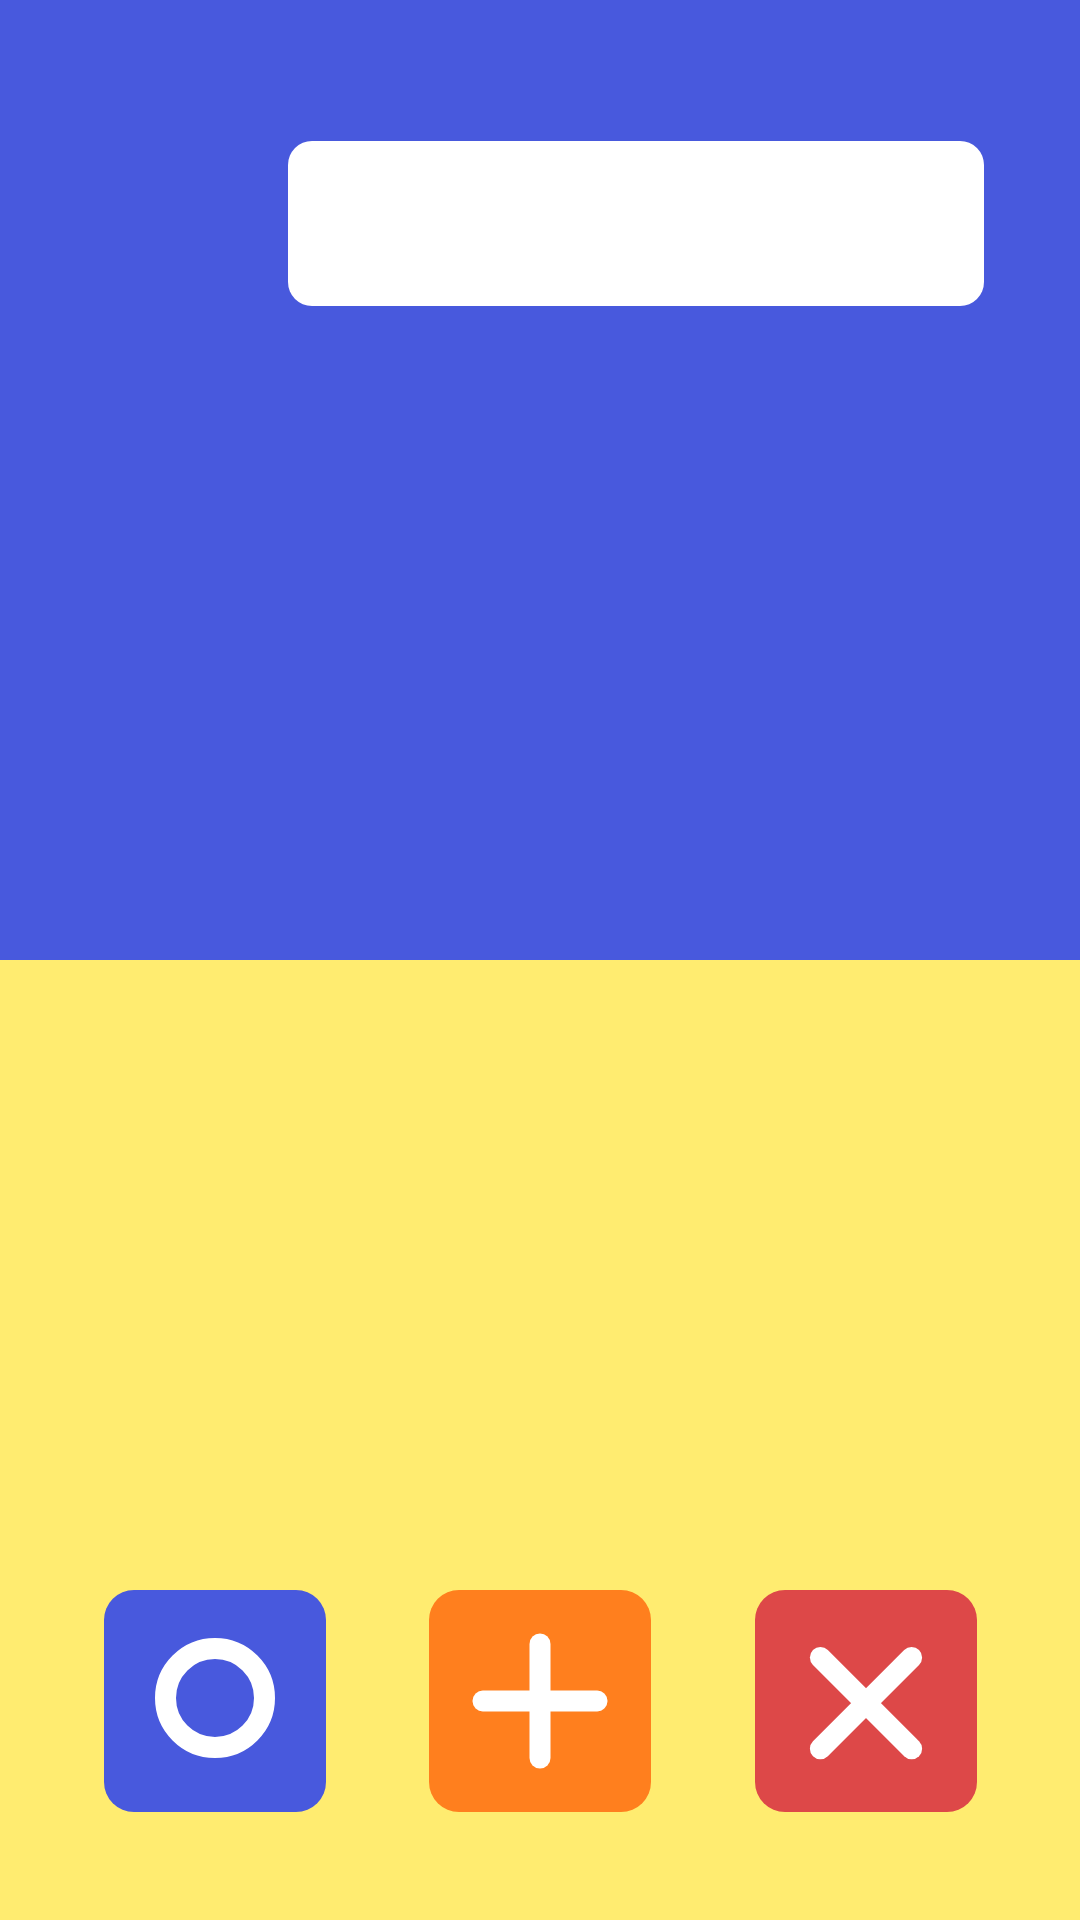

Point at icon controls on the screen. Image size 1080×1920, points as [x,y].
okay: [215,1701]
plus: [540,1701]
